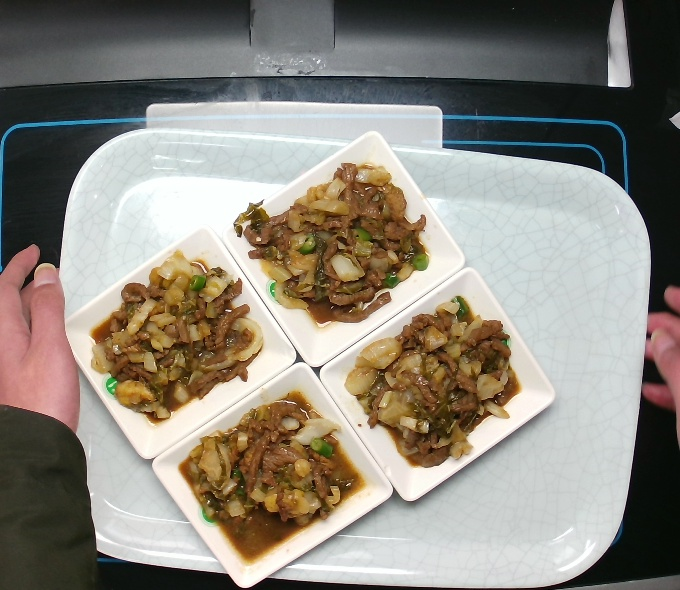wcq-PaoCaiNiuRou: (79, 251, 271, 422), (351, 291, 543, 462), (175, 385, 367, 556), (238, 159, 430, 330)
